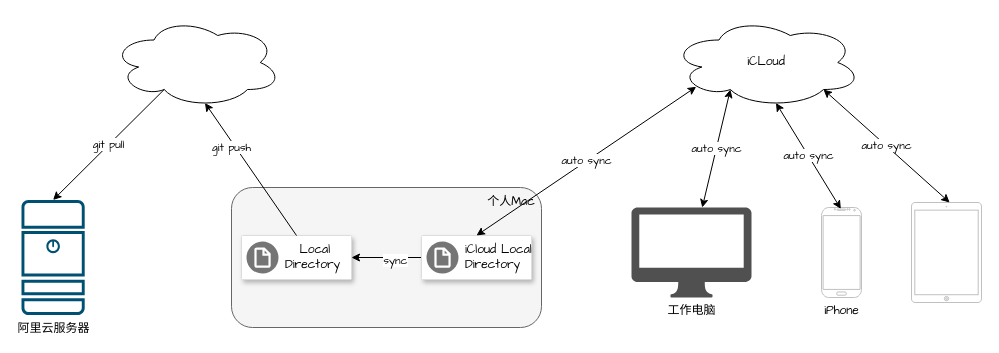
This 999x353 diagram has some shape labels left out. The shapes that lost their labels are listed below. From the top down, each one's centre as x and y in pixels, then its label:
pixel 196 62: Github (remote repo)
pixel 946 252: iPad
